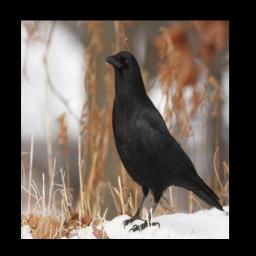Crow: (103, 46, 225, 233)
